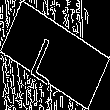L_NE: (34, 26, 76, 84)
